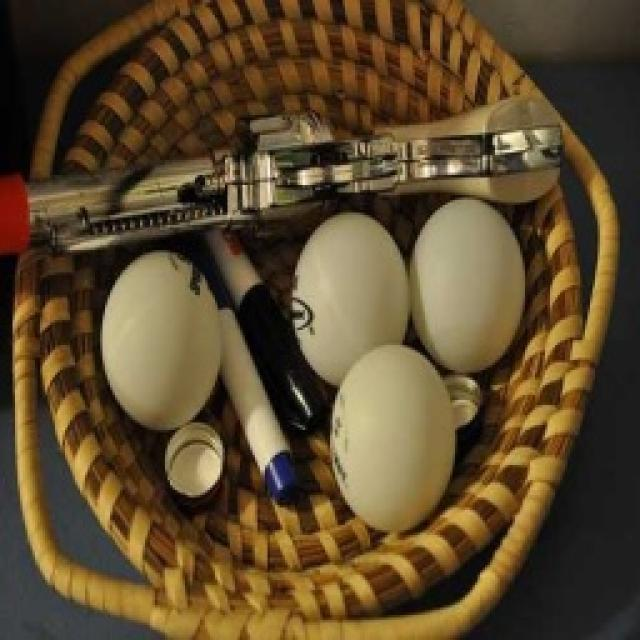white: (328, 345, 457, 538), (97, 251, 223, 437), (288, 208, 410, 382), (410, 199, 528, 374)
